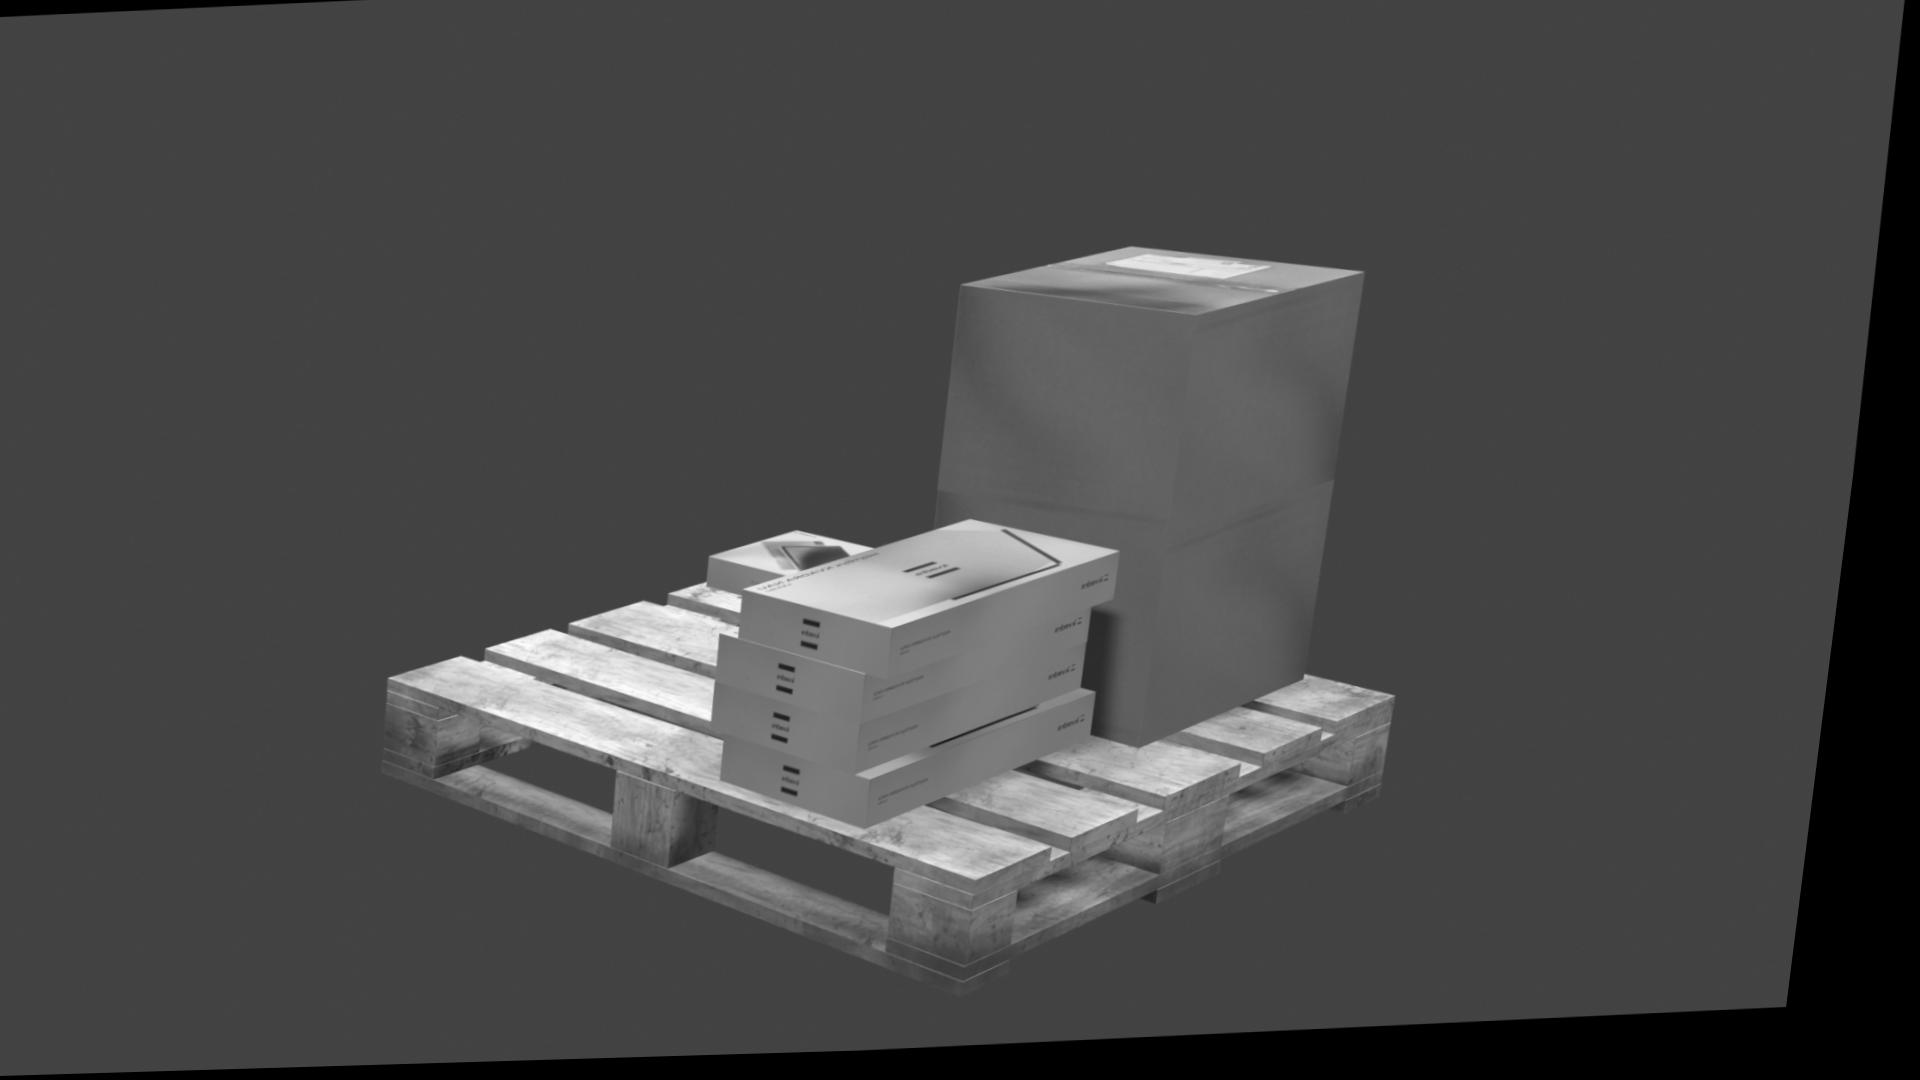group_box_left: (949, 281, 1371, 543), (948, 493, 1346, 756)
group_box_top: (971, 252, 1370, 323)
laptop_left: (741, 700, 1114, 833), (729, 654, 1104, 781), (756, 562, 1133, 684), (735, 616, 1106, 729)
laptop_top: (760, 526, 1130, 633)
palet: (401, 587, 1416, 1006)
tablet_top: (727, 535, 886, 580)
